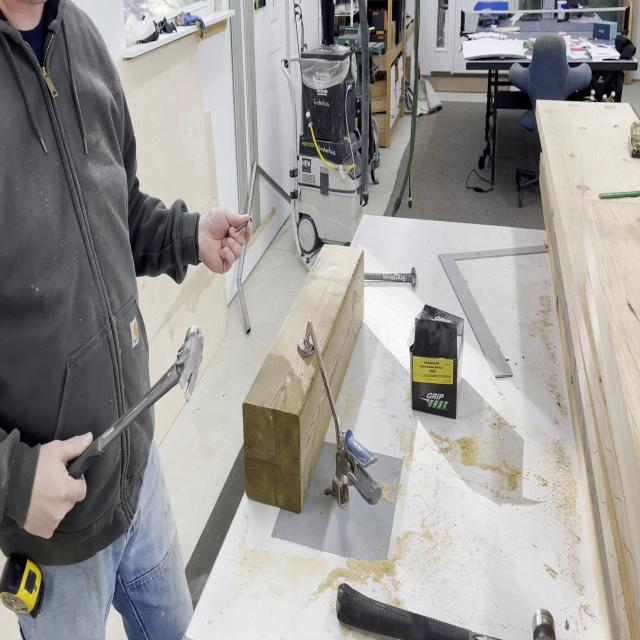hammer: (66, 324, 204, 480)
